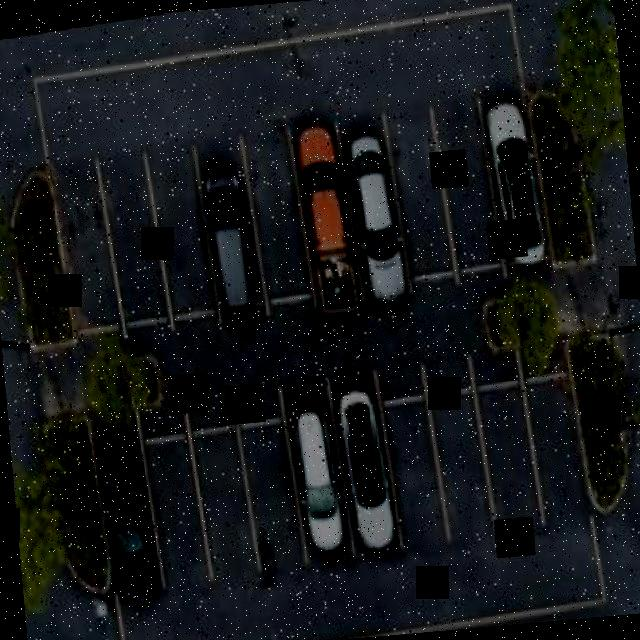car: (294, 122, 363, 317), (198, 154, 268, 328), (94, 436, 162, 608), (348, 132, 412, 310), (337, 388, 404, 558), (484, 97, 546, 263), (288, 402, 351, 560)
free: (242, 123, 312, 300), (50, 156, 121, 328), (100, 152, 168, 324), (436, 99, 504, 271), (144, 432, 216, 594), (152, 144, 218, 312), (388, 108, 453, 278), (194, 429, 261, 592), (385, 396, 451, 556), (242, 419, 308, 577), (432, 392, 498, 546), (479, 384, 545, 537), (528, 380, 589, 530)
